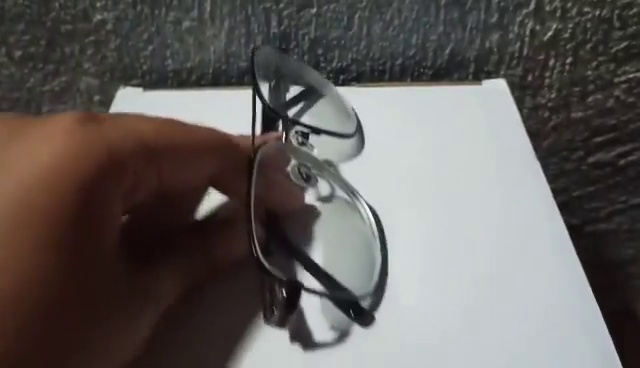glasses: (246, 35, 391, 326)
hand: (1, 108, 303, 368)
